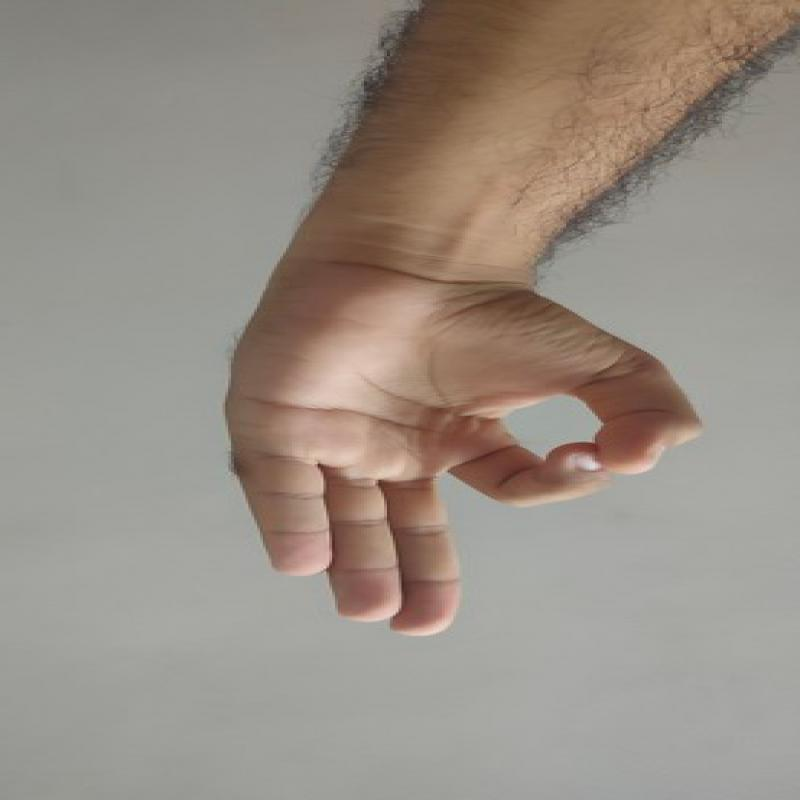Mudraakhyam: (203, 252, 713, 661)
